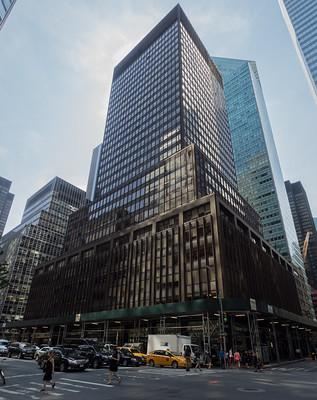building: (84, 0, 244, 358)
